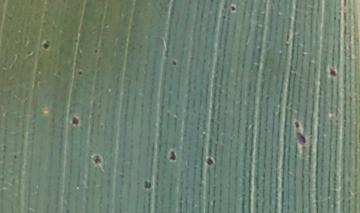tarspot: (295, 130, 307, 145), (69, 114, 80, 126), (91, 154, 102, 165), (328, 66, 338, 78), (167, 150, 177, 161), (142, 179, 152, 190), (41, 40, 51, 50), (205, 156, 214, 166), (293, 120, 300, 129), (229, 4, 236, 12), (220, 14, 227, 22), (331, 14, 337, 22), (283, 41, 289, 49), (170, 59, 176, 66), (341, 1, 347, 8), (12, 153, 17, 161), (77, 70, 83, 76), (93, 48, 98, 55), (73, 37, 78, 43)
